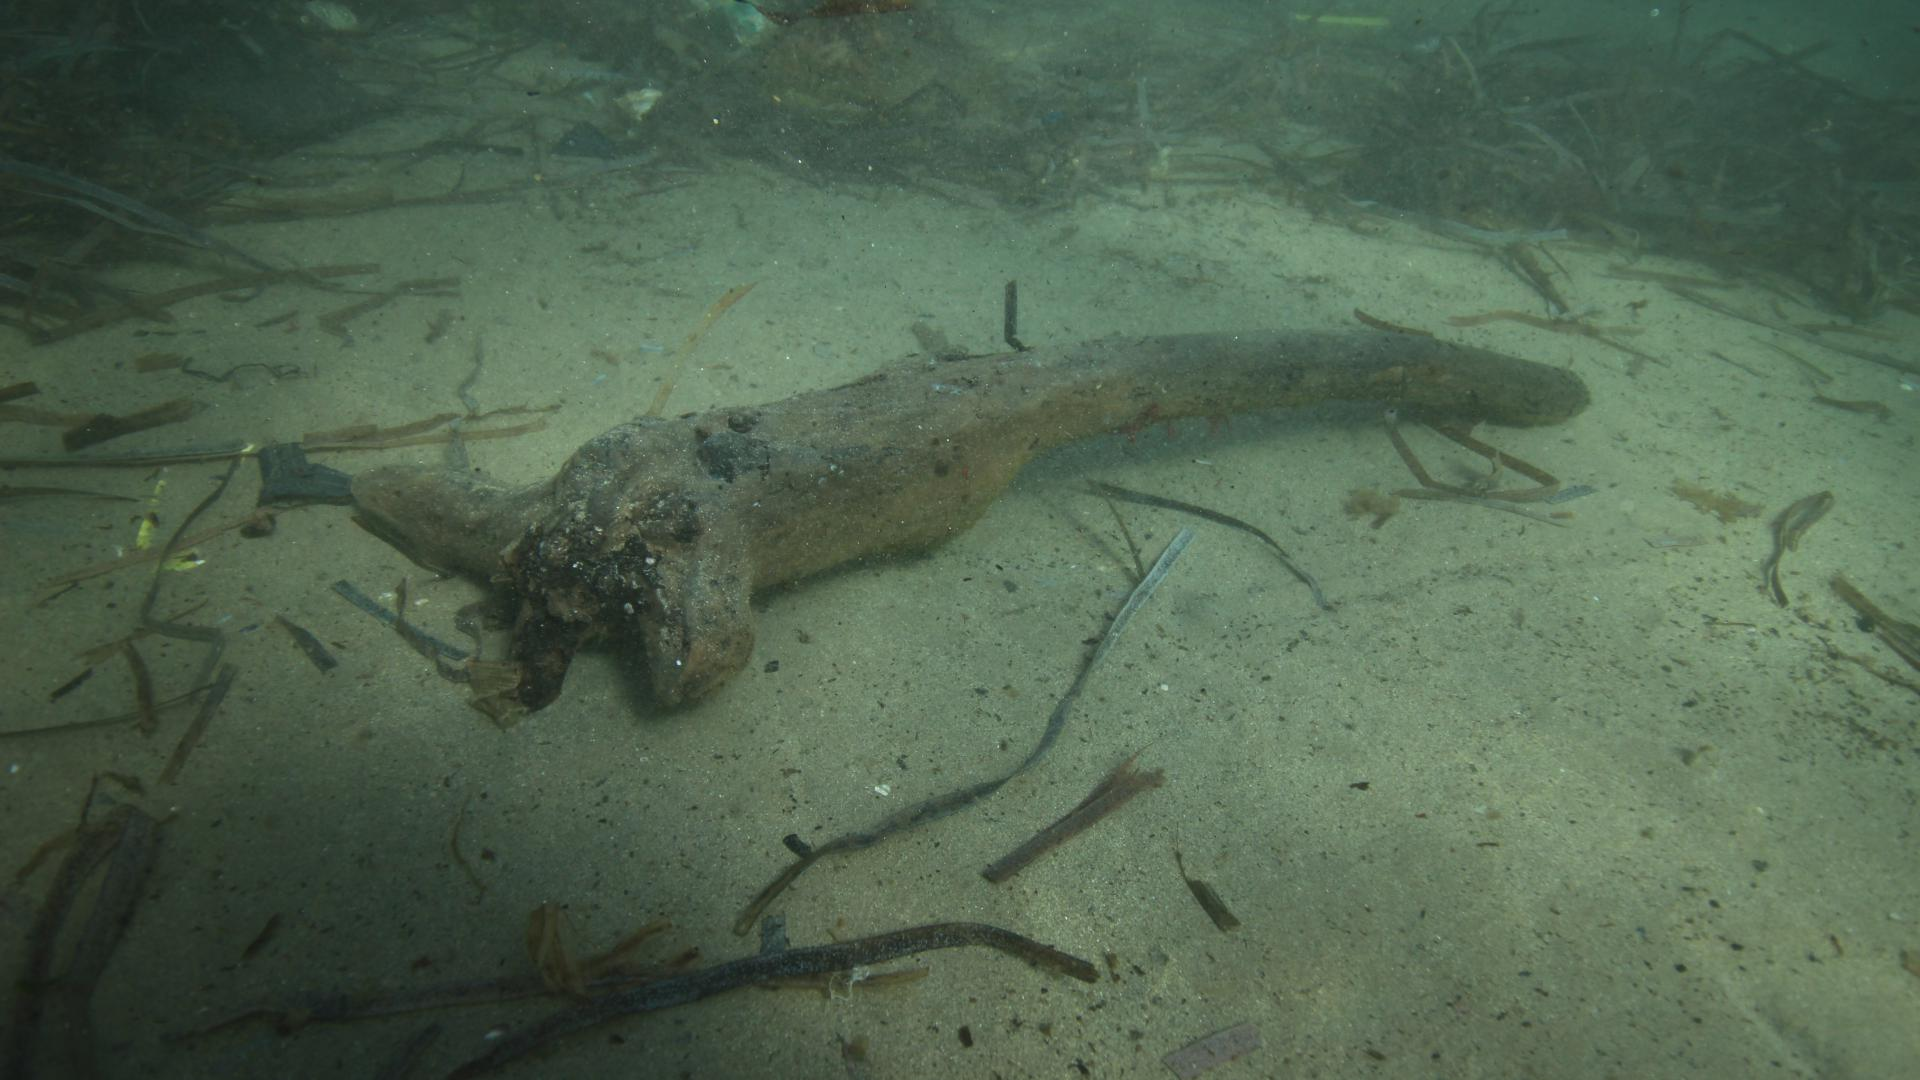wood: (348, 328, 1586, 713)
